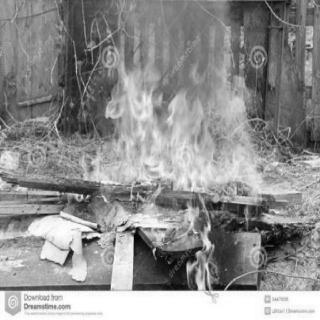Fire: (53, 40, 263, 284)
